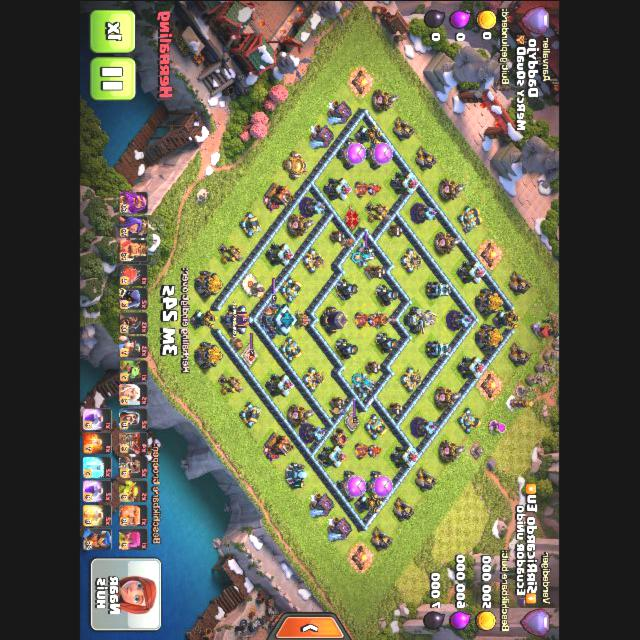AD: (190, 309, 219, 329), (355, 493, 384, 513), (493, 309, 523, 328), (354, 124, 383, 143)
AirSweeper: (373, 309, 397, 328), (292, 311, 311, 329)
BombTower: (427, 281, 454, 298), (427, 341, 453, 357)
Canon: (458, 206, 483, 232), (459, 408, 483, 434), (280, 336, 303, 362), (280, 277, 303, 303), (239, 402, 262, 428), (365, 414, 388, 440), (241, 211, 263, 237)
ClanCastle: (222, 304, 256, 333)
Eagle: (404, 306, 439, 334)
Inferno: (355, 180, 382, 197), (355, 443, 382, 459), (355, 312, 381, 328)
KingPad: (242, 343, 259, 366)
Mortar: (376, 332, 400, 354), (376, 284, 400, 306), (335, 338, 359, 360), (336, 278, 359, 300)
QueenPad: (344, 206, 362, 230)
RcPad: (346, 411, 360, 430)
Scattershot: (352, 372, 377, 397), (351, 242, 376, 266)
TH13: (260, 302, 300, 335)
WardenPad: (243, 273, 259, 294)
WizzTower: (300, 197, 326, 217), (300, 423, 326, 442), (448, 310, 474, 329), (412, 417, 438, 436), (412, 203, 438, 222)
Xbow: (303, 247, 326, 273), (302, 367, 325, 393), (401, 247, 424, 273), (401, 366, 423, 392)
